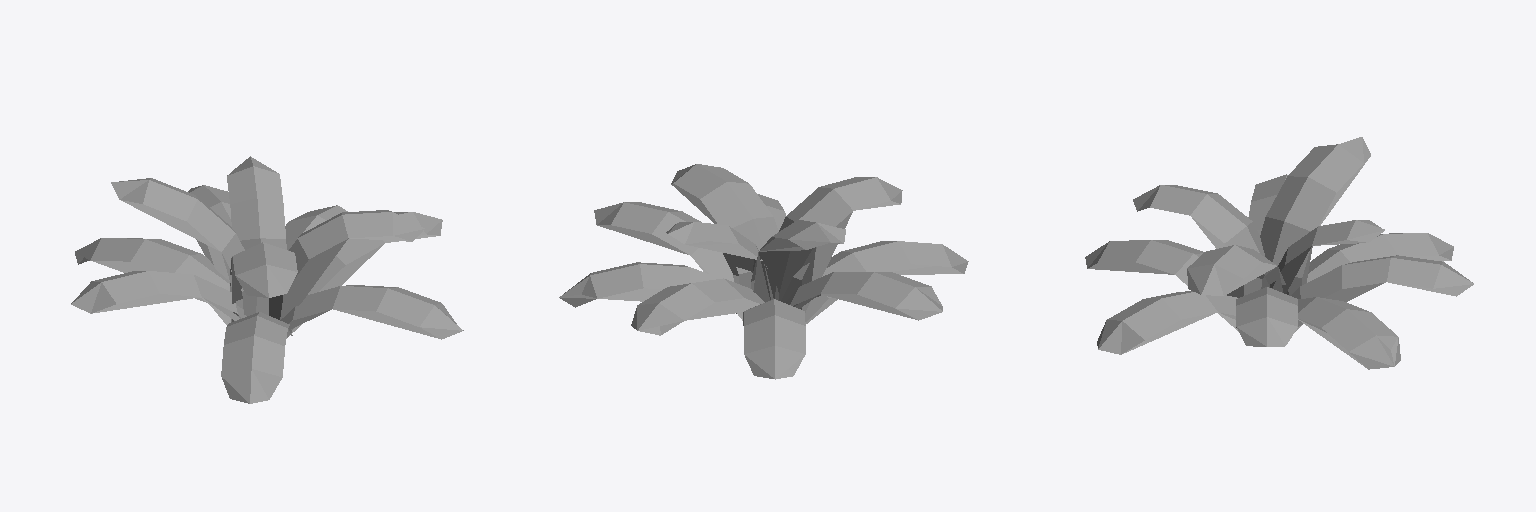
File: BirdsNest_blend.obj
The picture shows the model from 3 angles: view 1: azimuth 30°, elevation 25°; view 2: azimuth 150°, elevation 25°; view 3: azimuth 270°, elevation 25°; orthographic projection.
Visible parts, largest first — view 1: Birdnest256, Birdnest128; view 2: Birdnest256, Birdnest128; view 3: Birdnest256, Birdnest128.
Part boxes in pixels (x1,y1,x2,y2): Birdnest256: (71, 156, 462, 403); Birdnest128: (75, 185, 463, 338); Birdnest256: (559, 164, 968, 379); Birdnest128: (560, 177, 962, 378); Birdnest256: (1085, 137, 1473, 369); Birdnest128: (1088, 156, 1472, 367).
Bounding box in the file's own units: 4.99 × 1.95 × 4.67.